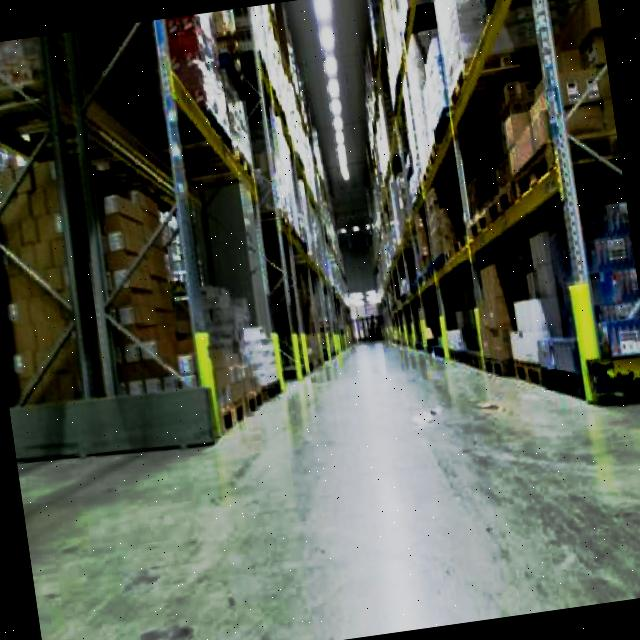ground: (8, 300, 640, 640)
pallet: (0, 9, 295, 471), (337, 0, 640, 444), (0, 137, 196, 415), (91, 182, 190, 396)
